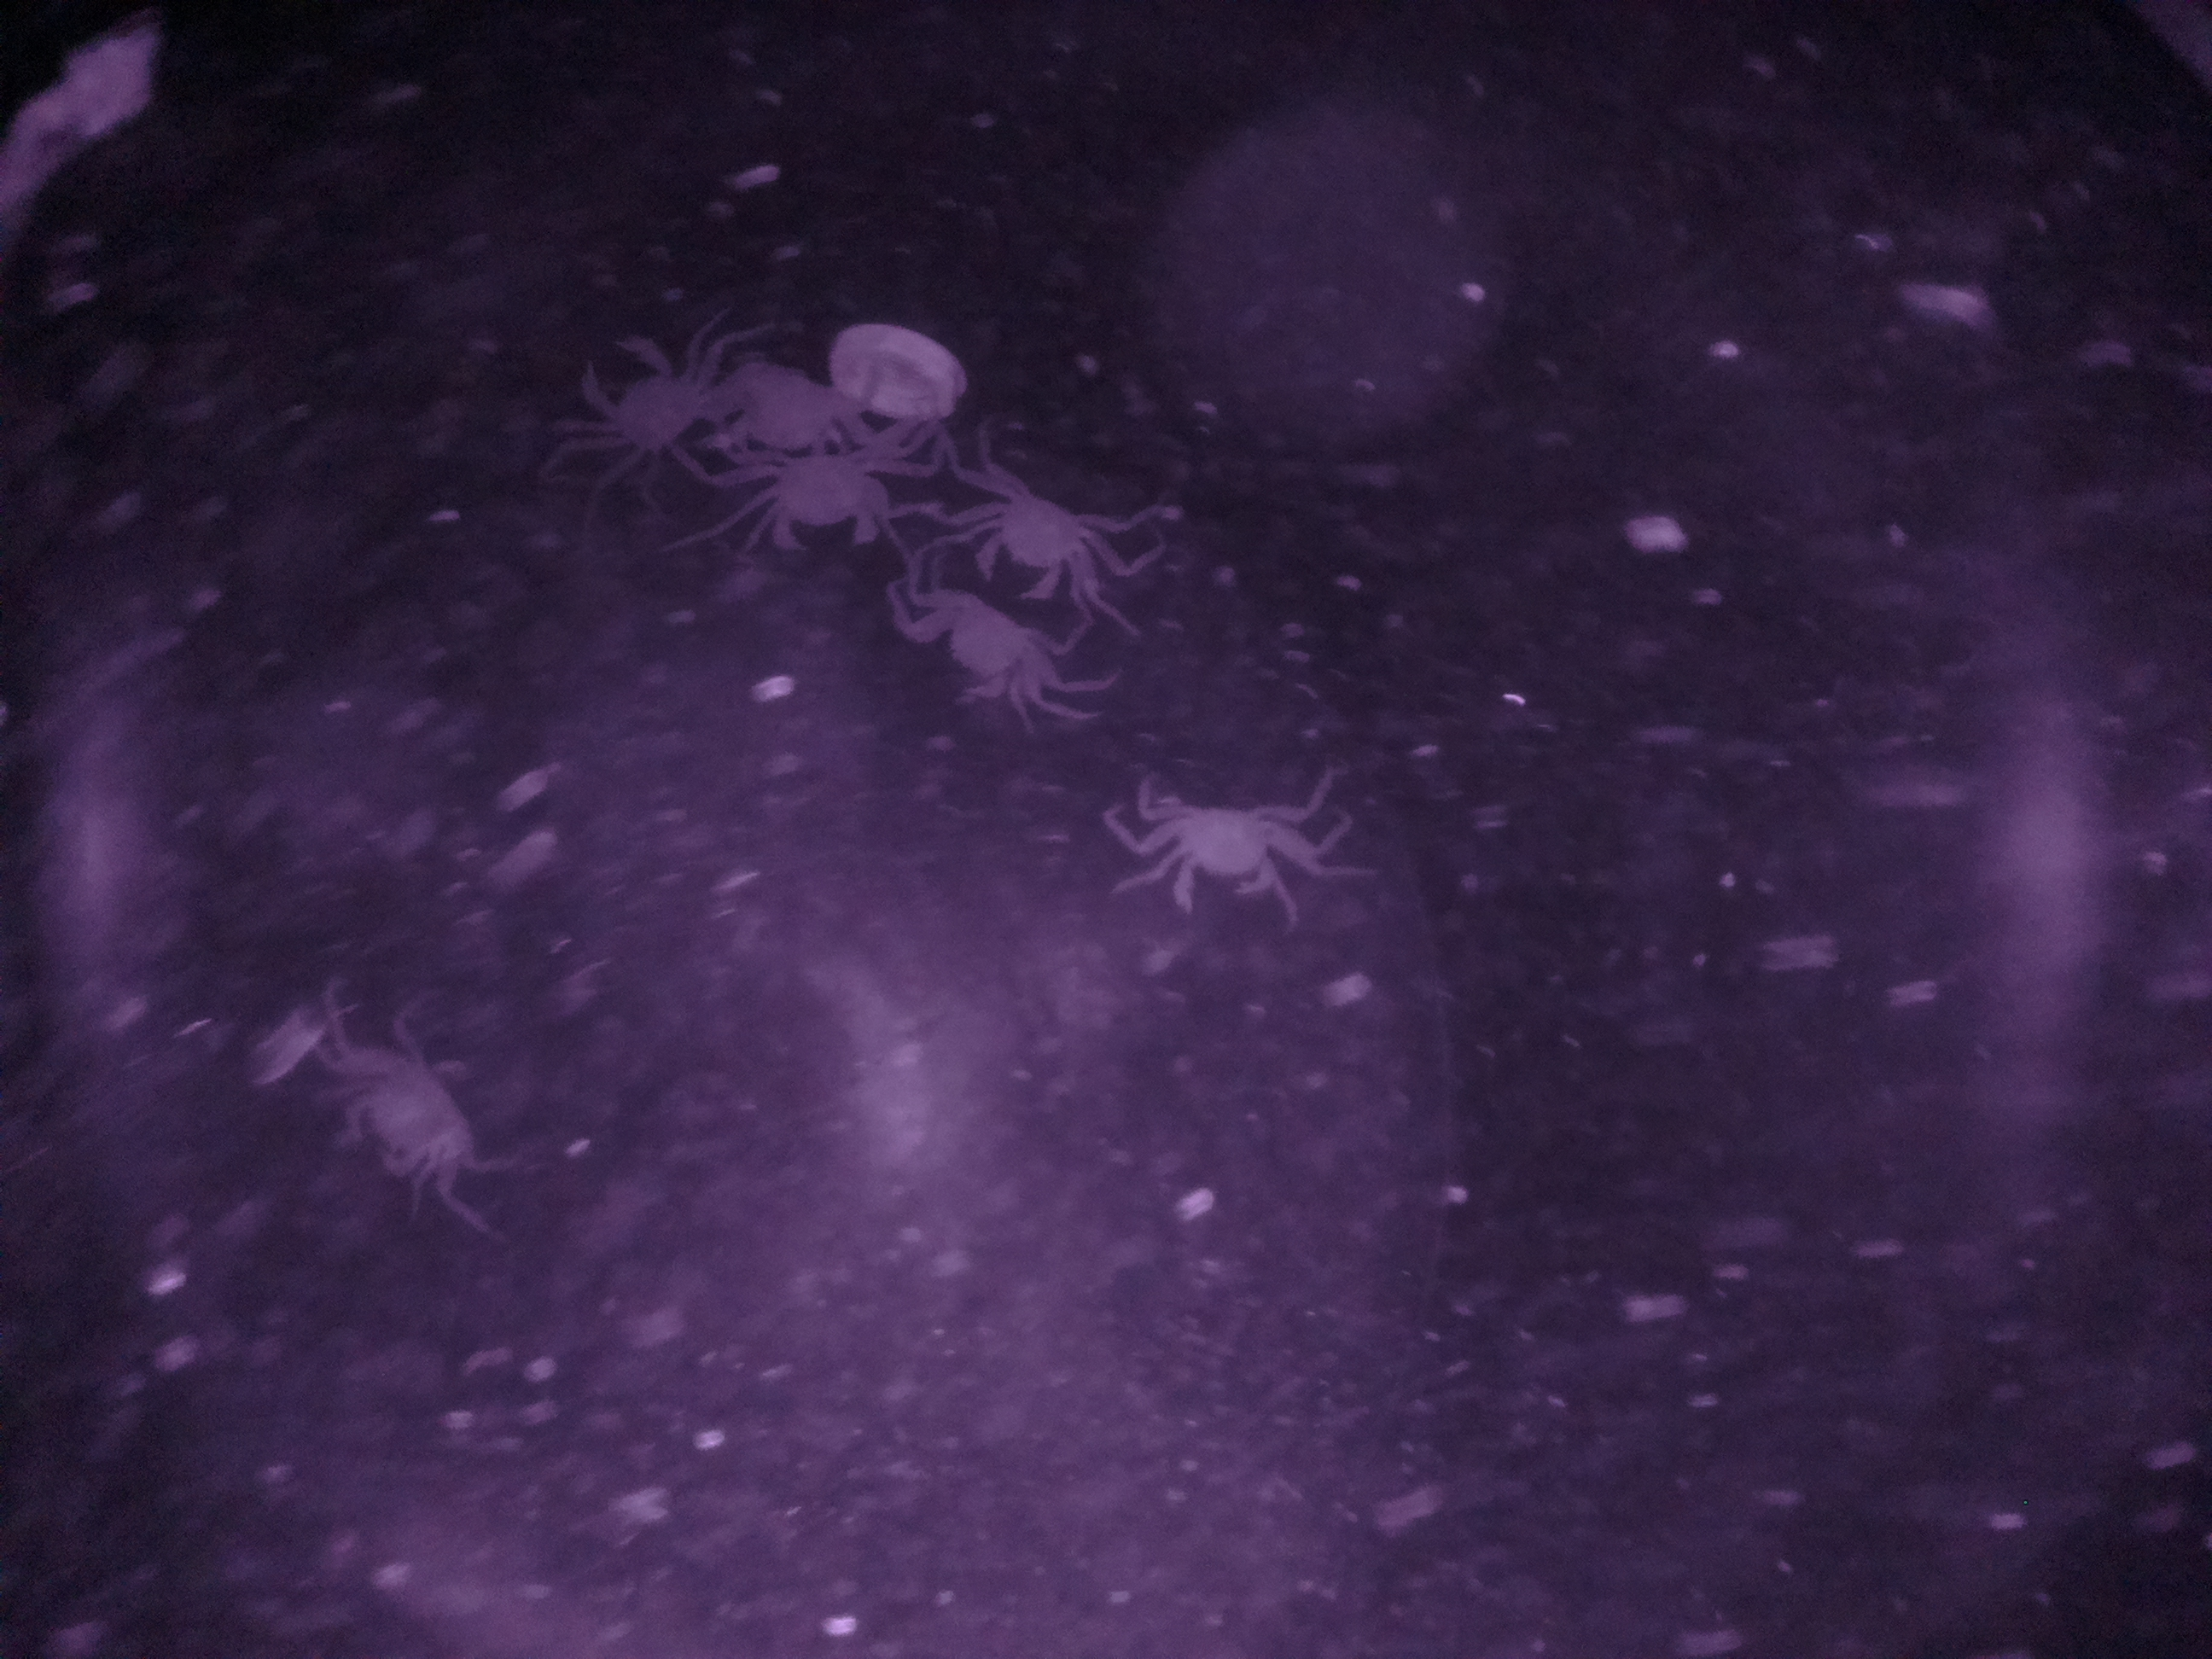Crab: (1136, 774, 1320, 929), (559, 321, 726, 484), (900, 566, 1059, 730), (963, 469, 1113, 620)
